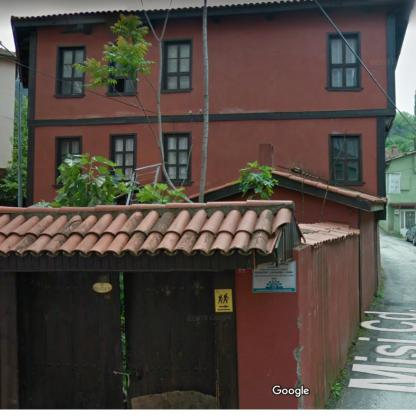door: (15, 269, 237, 408), (400, 209, 416, 236)
window: (326, 33, 360, 89), (162, 38, 191, 90), (162, 132, 191, 182), (330, 134, 361, 180), (58, 45, 86, 95), (109, 134, 136, 180), (55, 136, 82, 178), (342, 32, 360, 57), (386, 173, 400, 193)
